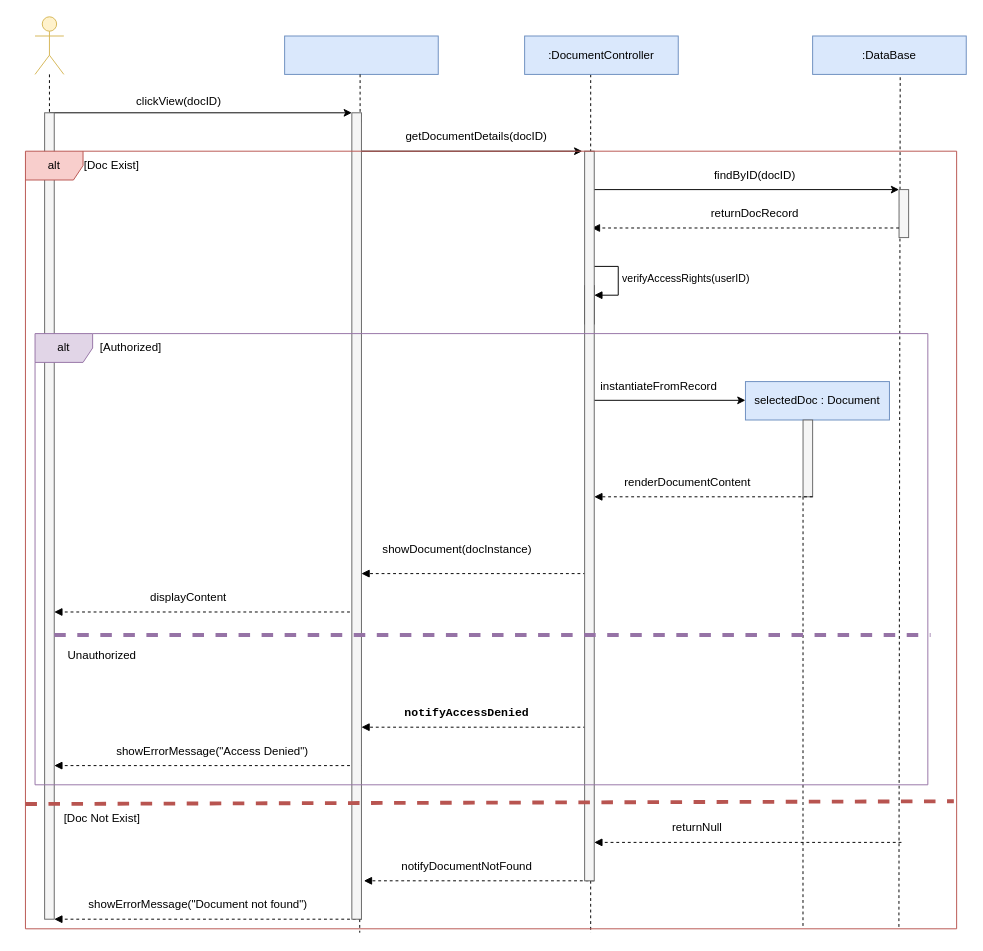
The diagram is 983 pixels wide and 951 high, and some of its shapes have lost their labels. The shapes that lost their labels are listed below. From the top down, each one's box as (x1, y1, x2, y2) in pixels, then its label:
(34, 16, 64, 74): :TripMember
(284, 35, 438, 74): :Document List Page
